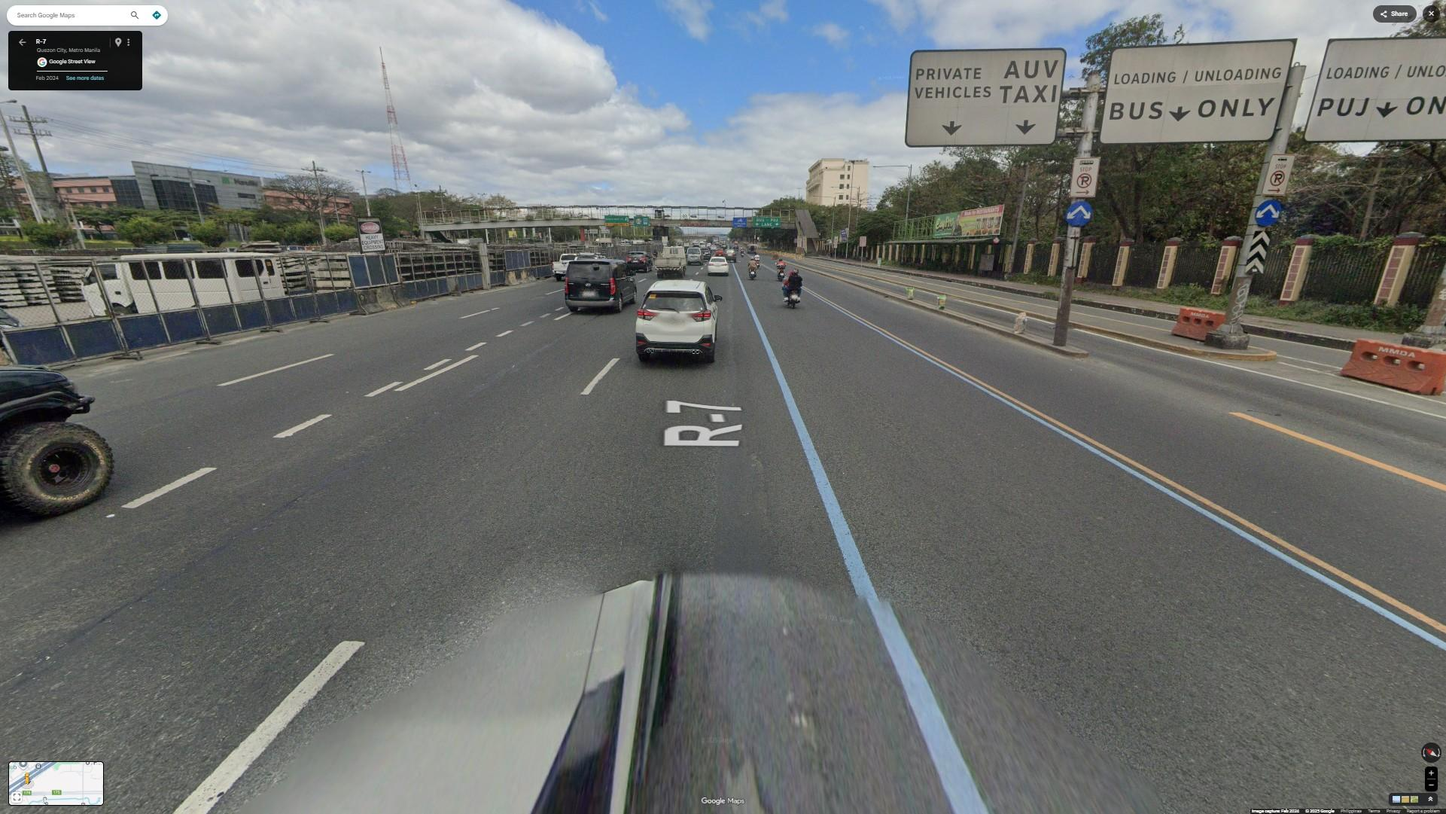pedestrian: (828, 247, 833, 259)
